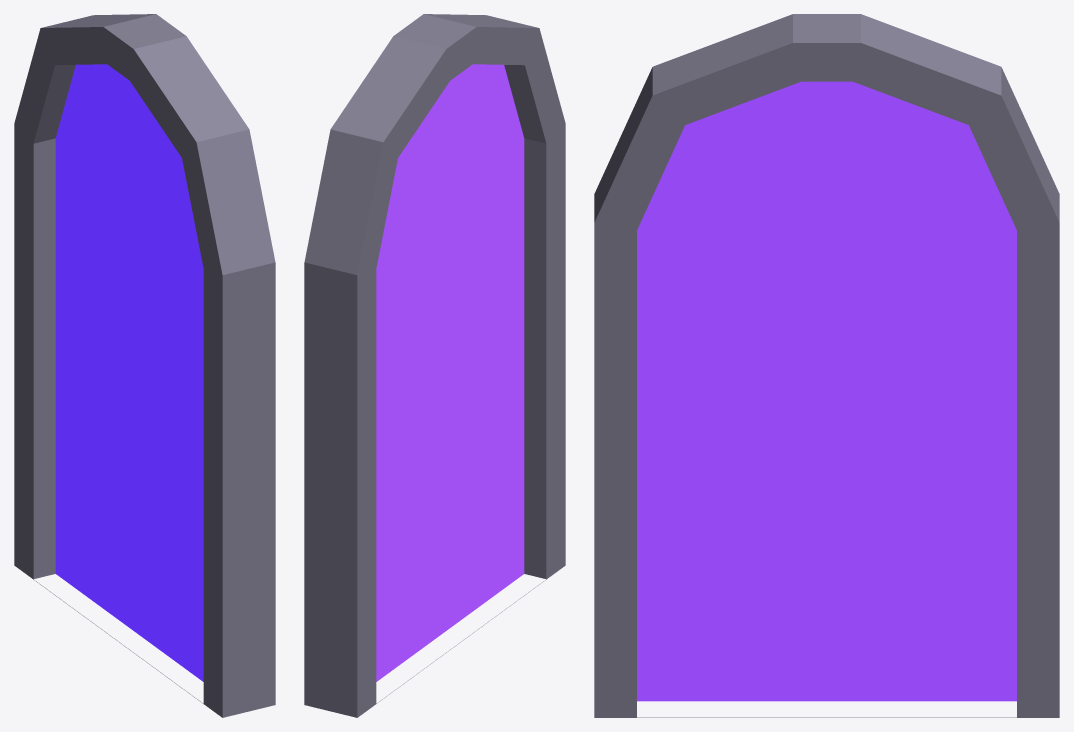
File: portal.glb
The picture shows the model from 3 angles, left to right: view 1: azimuth 30°, elevation 25°; view 2: azimuth 150°, elevation 25°; view 3: azimuth 270°, elevation 25°; orthographic projection. The views are drawn at different scales.
Parts seen in each view (by area): view 1: portal; view 2: portal; view 3: portal.
Boxes of the visible parts, bbox=[...] form: portal: bbox=[14, 14, 275, 717]; portal: bbox=[304, 14, 565, 717]; portal: bbox=[594, 14, 1059, 717].
Bounding box in the file's own units: 0.1247 × 1.36 × 0.8492.
